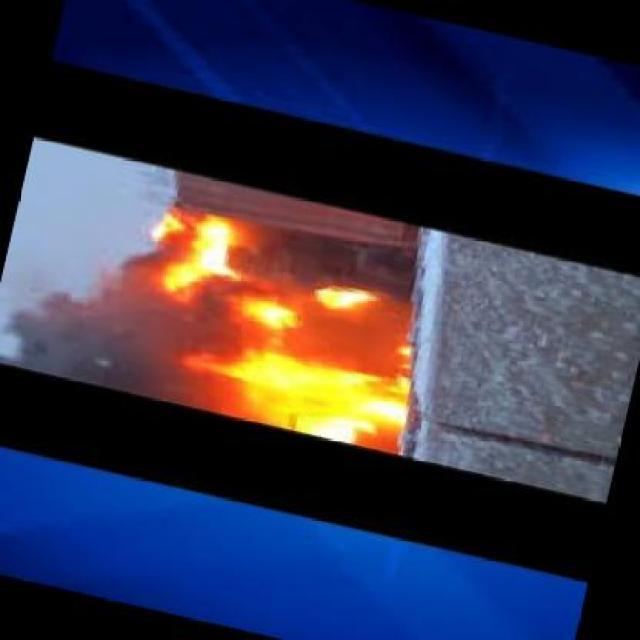Fire: (223, 346, 420, 450), (150, 198, 237, 298), (234, 294, 308, 336), (312, 284, 385, 314)
Smoke: (9, 283, 182, 385)
